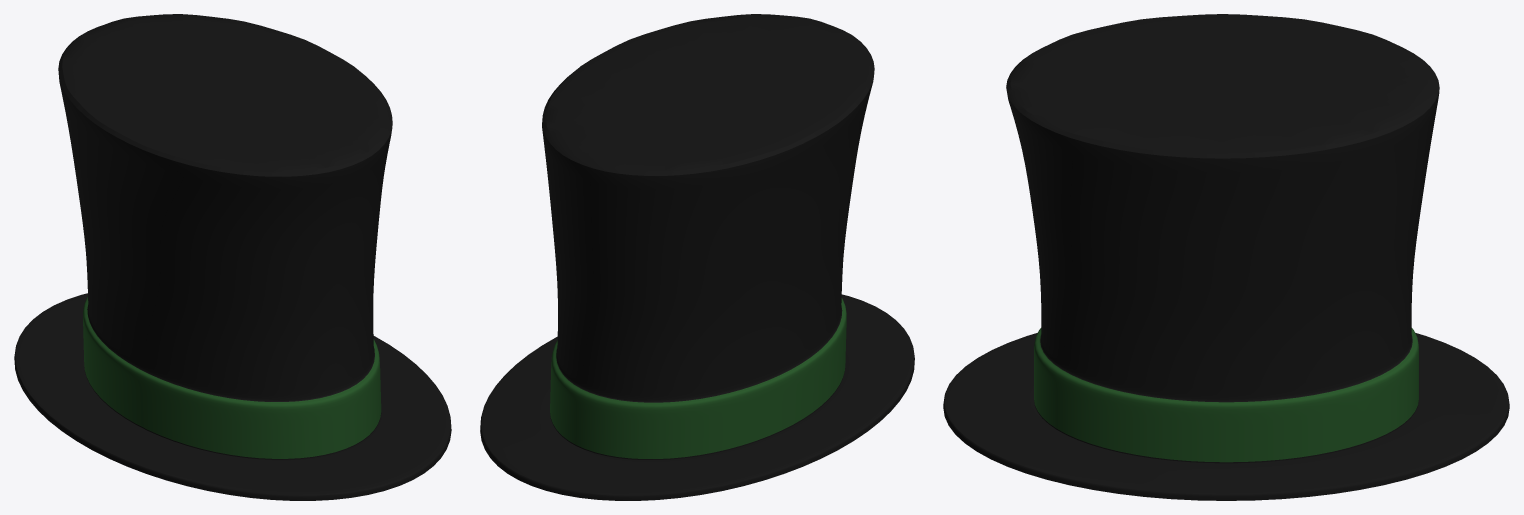
The model's file is tophat.fbx.
The picture shows the model from 3 angles, left to right: view 1: azimuth 30°, elevation 25°; view 2: azimuth 150°, elevation 25°; view 3: azimuth 270°, elevation 25°; orthographic projection. The views are drawn at different scales.
Parts seen in each view (by area): view 1: tophat; view 2: tophat; view 3: tophat.
Part boxes in pixels (box(x1,y1,x2,y2)): tophat: box(14, 14, 451, 500); tophat: box(480, 14, 914, 500); tophat: box(943, 14, 1509, 500).
Size of the model in its own units: 0.2923 by 0.2588 by 0.4016.
